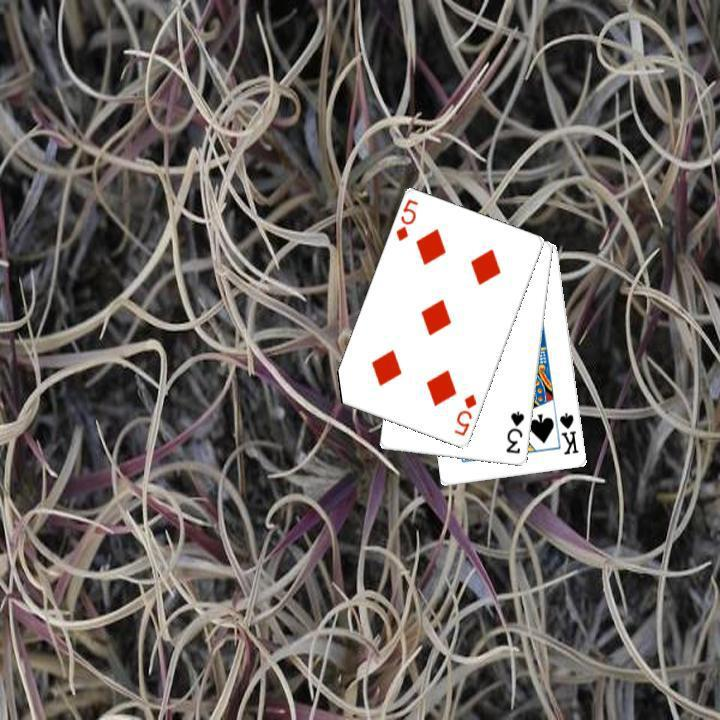3: (502, 407, 527, 456)
5: (391, 195, 420, 244), (450, 390, 479, 438)
K: (556, 408, 581, 457)
